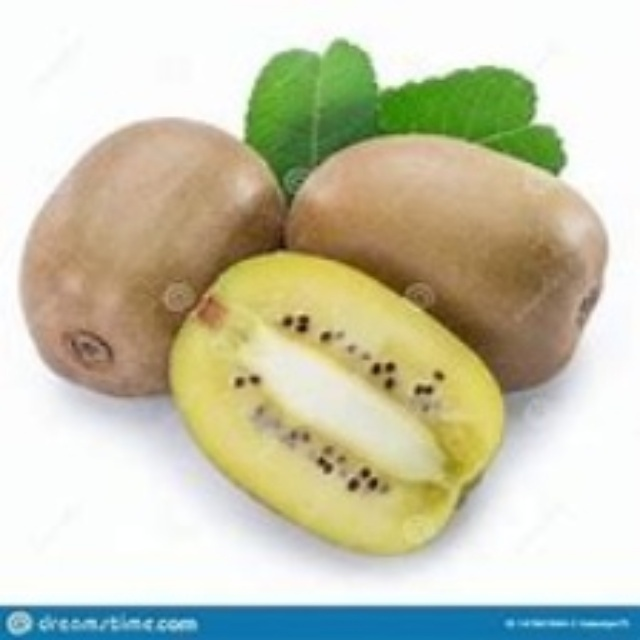kiwi: (154, 254, 525, 563), (294, 127, 603, 399), (20, 116, 280, 402)
